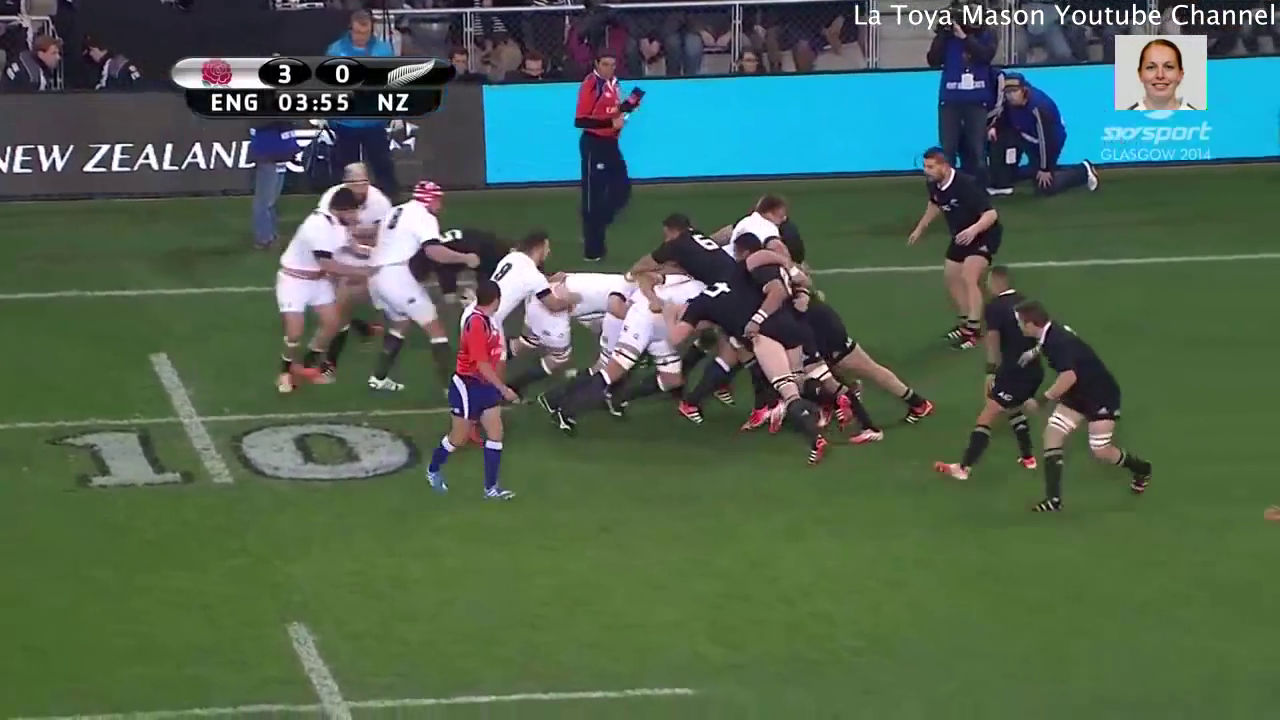10_metre: (1, 345, 543, 497), (1, 608, 708, 720)
player: (1003, 292, 1159, 524), (678, 272, 857, 474), (529, 264, 707, 445), (927, 260, 1047, 494), (477, 249, 639, 418), (418, 270, 531, 512), (761, 276, 939, 424), (264, 182, 380, 409), (363, 159, 464, 408), (903, 139, 1012, 361), (452, 208, 562, 376), (627, 202, 748, 296), (408, 220, 524, 316), (311, 160, 399, 242), (717, 185, 793, 277)
